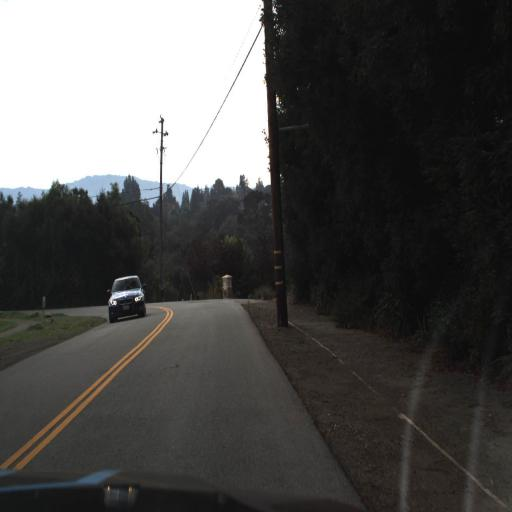car: (106, 272, 146, 324)
